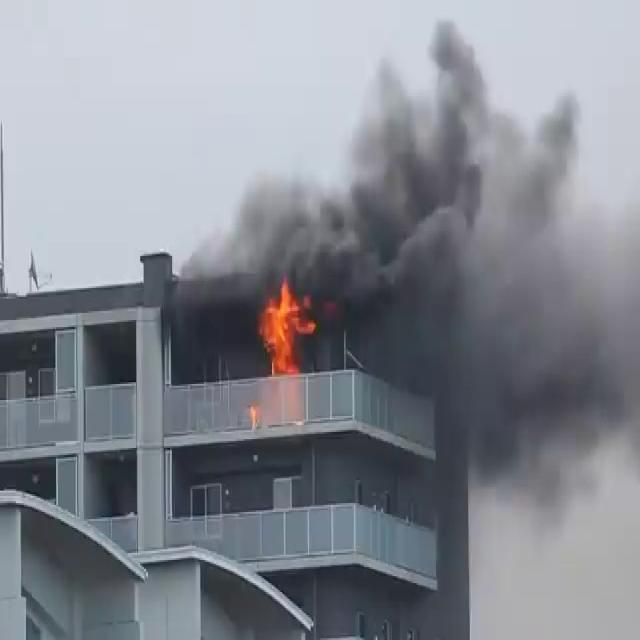Fire: (255, 274, 314, 378)
Smoke: (181, 13, 639, 314), (399, 14, 640, 487)
